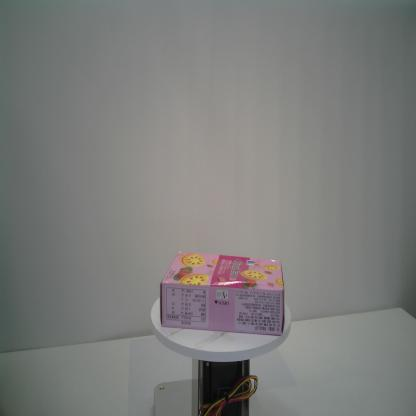Dessert: (159, 250, 285, 338)
